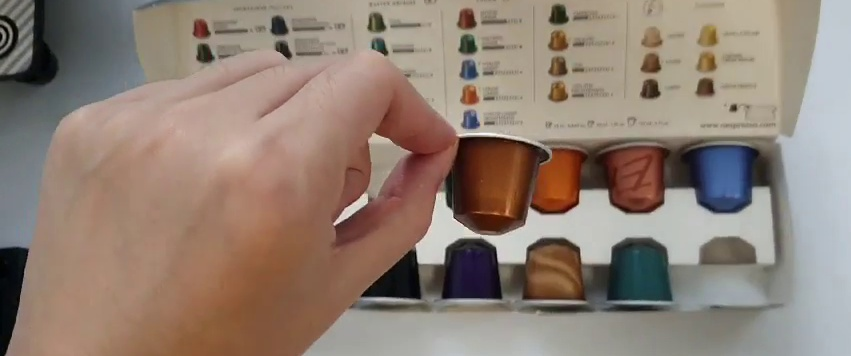capsule_3: (439, 129, 550, 235)
